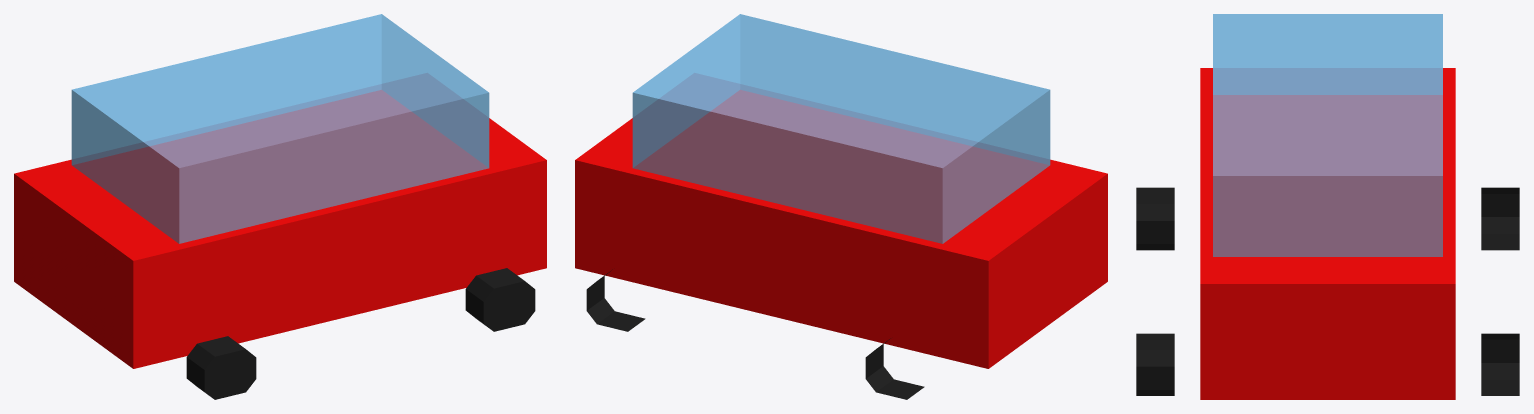
The model's file is car.obj.
The picture shows the model from 3 angles, left to right: view 1: azimuth 30°, elevation 25°; view 2: azimuth 150°, elevation 25°; view 3: azimuth 270°, elevation 25°; orthographic projection. The views are drawn at different scales.
Parts seen in each view (by area): view 1: CarBody, Cabin, Wheel_FrontLeft, Wheel_FrontRight; view 2: CarBody, Cabin, Wheel_BackLeft, Wheel_BackRight; view 3: CarBody, Cabin, Wheel_FrontLeft, Wheel_BackLeft, Wheel_FrontRight, Wheel_BackRight.
Part boxes in pixels (box(x1,y1,x2,y2)): CarBody: box(14, 90, 546, 368); Cabin: box(71, 14, 489, 243); Wheel_FrontLeft: box(186, 336, 256, 399); Wheel_FrontRight: box(465, 268, 535, 331); CarBody: box(575, 90, 1107, 368); Cabin: box(632, 14, 1050, 243); Wheel_BackLeft: box(865, 338, 924, 399); Wheel_BackRight: box(586, 269, 645, 331); CarBody: box(1200, 68, 1455, 399); Cabin: box(1213, 14, 1442, 256); Wheel_FrontLeft: box(1136, 187, 1174, 250); Wheel_BackLeft: box(1481, 187, 1519, 250); Wheel_FrontRight: box(1136, 333, 1174, 395); Wheel_BackRight: box(1481, 333, 1519, 395).
Bounding box in the file's own units: 4 × 1.9 × 3.
